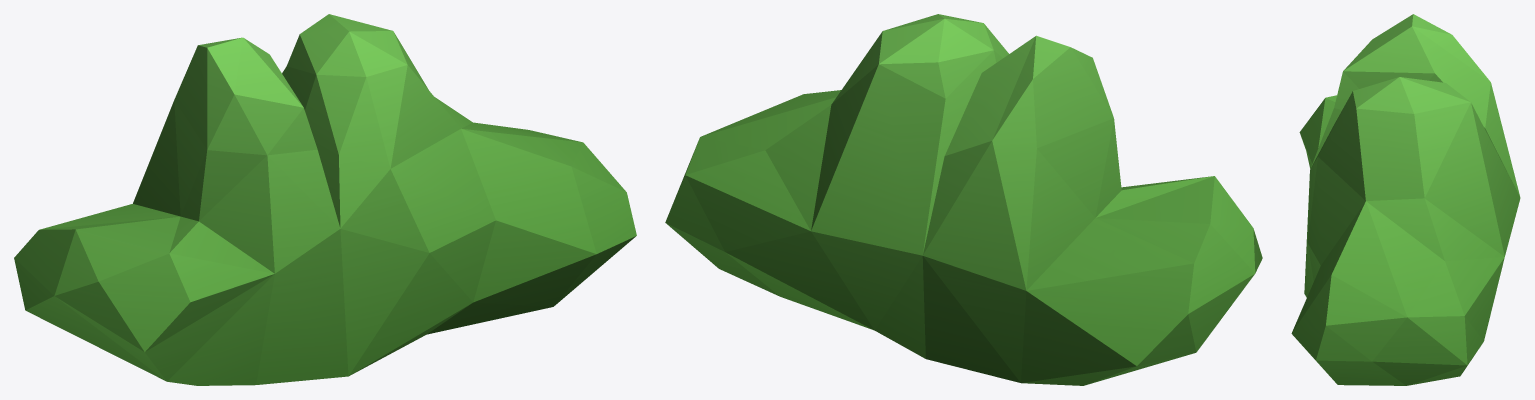
Rendered from bush_split_green.fbx.
3 renders of one model, left to right at view 1: azimuth 30°, elevation 25°; view 2: azimuth 150°, elevation 25°; view 3: azimuth 270°, elevation 25°, orthographic. The views are drawn at different scales.
Visible parts, largest first — view 1: bush_split_green; view 2: bush_split_green; view 3: bush_split_green.
Boxes of the visible parts, x1=… form: bush_split_green: x1=14, y1=14, x2=636, y2=385; bush_split_green: x1=665, y1=14, x2=1262, y2=385; bush_split_green: x1=1291, y1=14, x2=1520, y2=385.
Bounding box in the file's own units: 2.75 × 1.45 × 1.2.
1 material, 1 textured.
